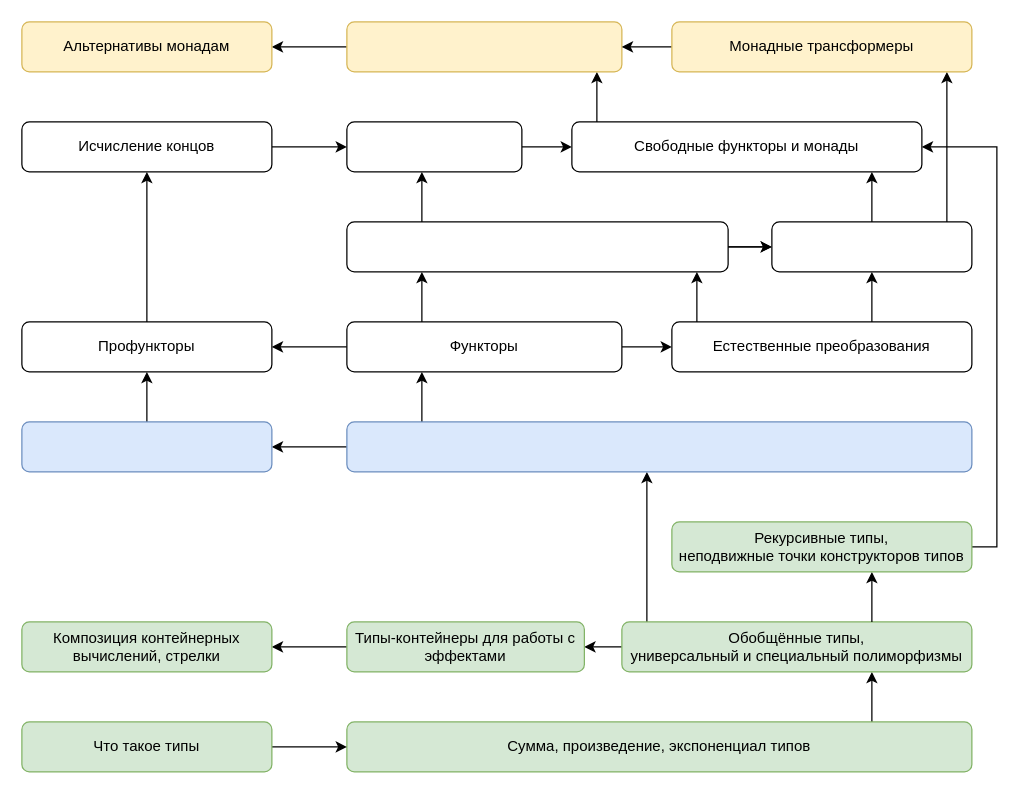
The diagram is 1029 pixels wide and 794 high, and some of its shapes have lost their labels. The centre of each missing label's shape, as x and y in pixels:
Applicative, Distributable, Traversаble: the point at 484,46
Категории типов: the point at 659,446
Монады: the point at 871,246
Произведение категорий, дуальные категории: the point at 146,446
Расширения Кана: the point at 434,146
Сопряжённые функторы: the point at 537,246
